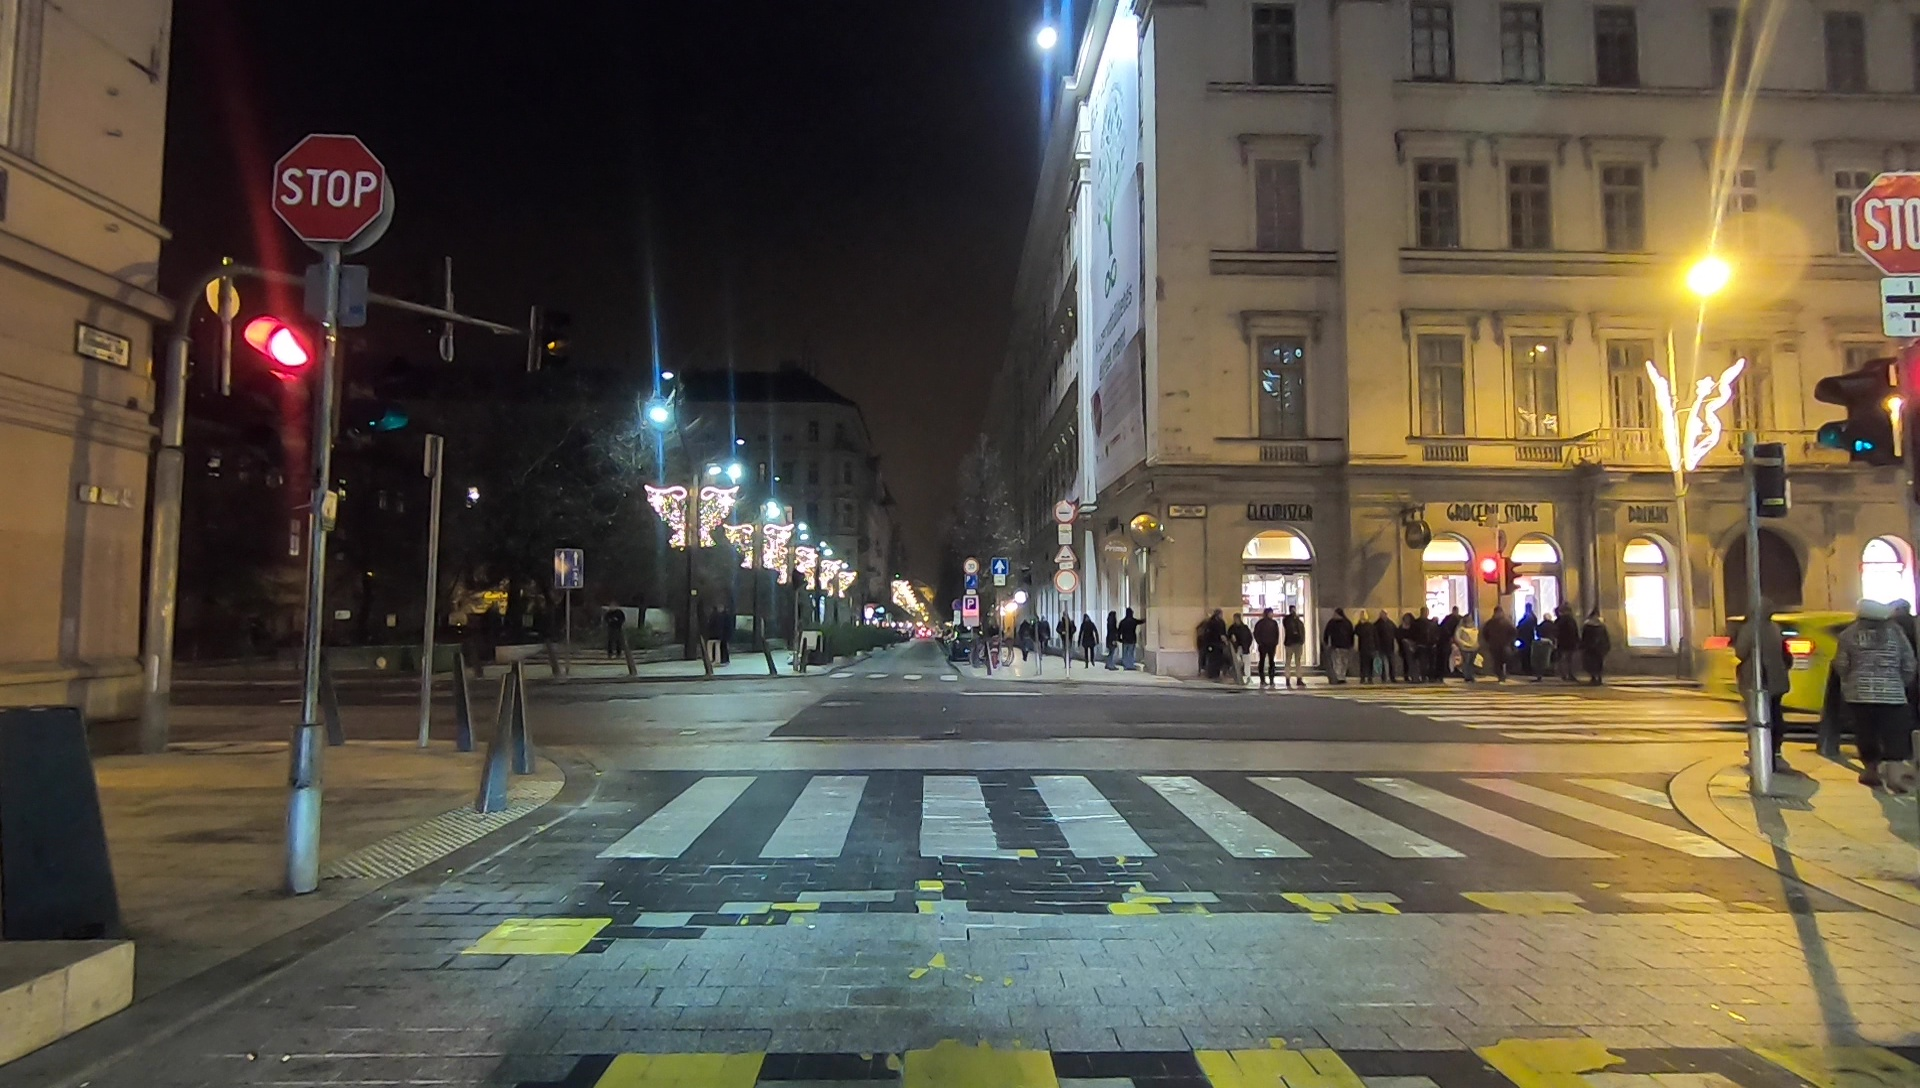person: (1839, 608, 1904, 786), (1325, 611, 1352, 686), (1582, 608, 1606, 684), (1201, 613, 1225, 684), (1551, 608, 1575, 678), (1230, 619, 1254, 684), (1354, 608, 1373, 687), (1117, 606, 1141, 667), (1284, 613, 1304, 686), (1258, 610, 1276, 682), (1417, 610, 1432, 691), (708, 606, 726, 667), (1076, 619, 1099, 667), (1378, 611, 1391, 687), (1401, 613, 1414, 689), (606, 606, 623, 661)
